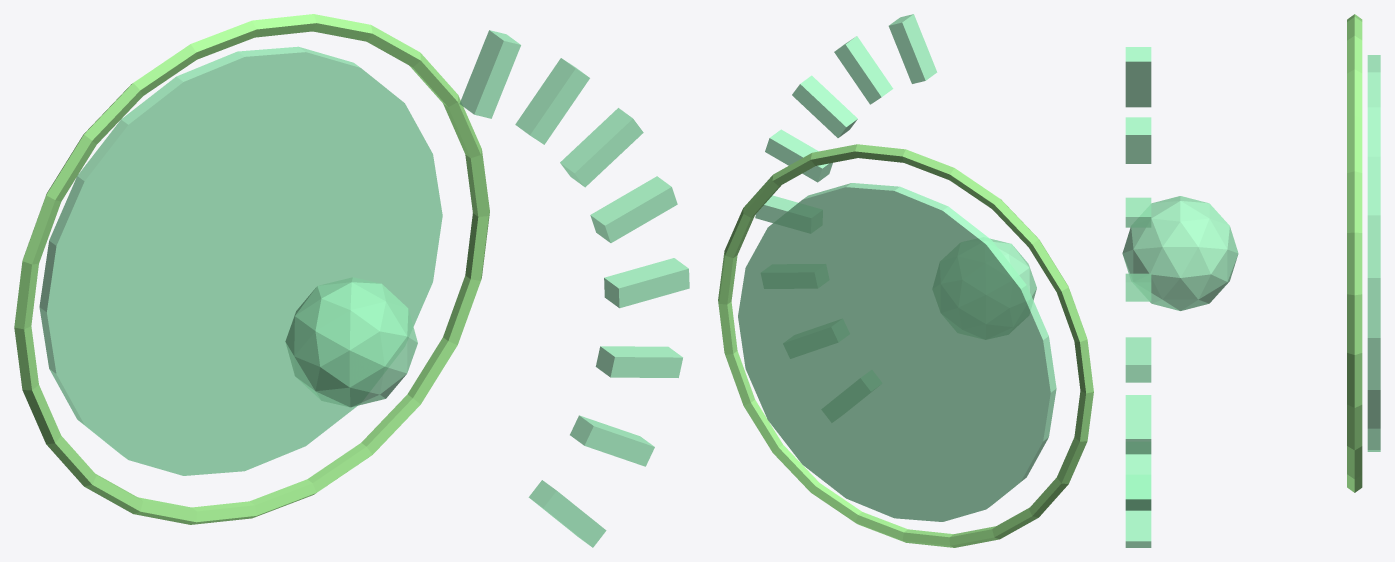
File: 01_class_special_attack_vfx.glb
3 renders of one model, left to right at view 1: azimuth 30°, elevation 25°; view 2: azimuth 150°, elevation 25°; view 3: azimuth 270°, elevation 25°, orthographic. The views are drawn at different scales.
Parts seen in each view (by area): view 1: ability_cast_disc, ability_outer_ring, class_energy_core, attack_flow_arc_seg_7, attack_flow_arc_seg_5, attack_flow_arc_seg_6, attack_flow_arc_seg_4, attack_flow_arc_seg_3, attack_flow_arc_seg_2, attack_flow_arc_seg_1, attack_flow_arc_seg_0; view 2: ability_cast_disc, ability_outer_ring, attack_flow_arc_seg_7, attack_flow_arc_seg_5, attack_flow_arc_seg_6, attack_flow_arc_seg_4, class_energy_core, attack_flow_arc_seg_3; view 3: class_energy_core, ability_outer_ring, ability_cast_disc, attack_flow_arc_seg_7, attack_flow_arc_seg_2, attack_flow_arc_seg_1, attack_flow_arc_seg_6, attack_flow_arc_seg_3, attack_flow_arc_seg_0, attack_flow_arc_seg_5, attack_flow_arc_seg_4.
Part boxes in pixels (box(x1,y1,x2,y2)): ability_cast_disc: box(39, 46, 442, 475); ability_outer_ring: box(14, 14, 489, 524); class_energy_core: box(285, 277, 417, 407); attack_flow_arc_seg_7: box(459, 30, 520, 118); attack_flow_arc_seg_5: box(560, 108, 643, 187); attack_flow_arc_seg_6: box(515, 58, 589, 144); attack_flow_arc_seg_4: box(590, 176, 677, 242); attack_flow_arc_seg_3: box(604, 258, 689, 308); attack_flow_arc_seg_2: box(595, 346, 682, 377); attack_flow_arc_seg_1: box(570, 415, 654, 466); attack_flow_arc_seg_0: box(528, 480, 606, 547); ability_cast_disc: box(738, 183, 1056, 521); ability_outer_ring: box(718, 144, 1093, 547); attack_flow_arc_seg_7: box(888, 14, 937, 83); attack_flow_arc_seg_5: box(792, 75, 857, 137); attack_flow_arc_seg_6: box(834, 36, 893, 104); attack_flow_arc_seg_4: box(765, 129, 832, 182); class_energy_core: box(990, 238, 1036, 300); attack_flow_arc_seg_3: box(755, 195, 798, 222); class_energy_core: box(1122, 196, 1238, 310); ability_outer_ring: box(1347, 14, 1362, 492); ability_cast_disc: box(1367, 55, 1380, 451); attack_flow_arc_seg_7: box(1125, 47, 1151, 107); attack_flow_arc_seg_2: box(1125, 395, 1151, 454); attack_flow_arc_seg_1: box(1125, 454, 1151, 510); attack_flow_arc_seg_6: box(1125, 117, 1151, 163); attack_flow_arc_seg_3: box(1125, 337, 1151, 382); attack_flow_arc_seg_0: box(1125, 510, 1151, 547); attack_flow_arc_seg_5: box(1125, 197, 1151, 227); attack_flow_arc_seg_4: box(1125, 273, 1151, 301).
Size of the model in its own units: 1.71 by 1.63 by 0.8.
